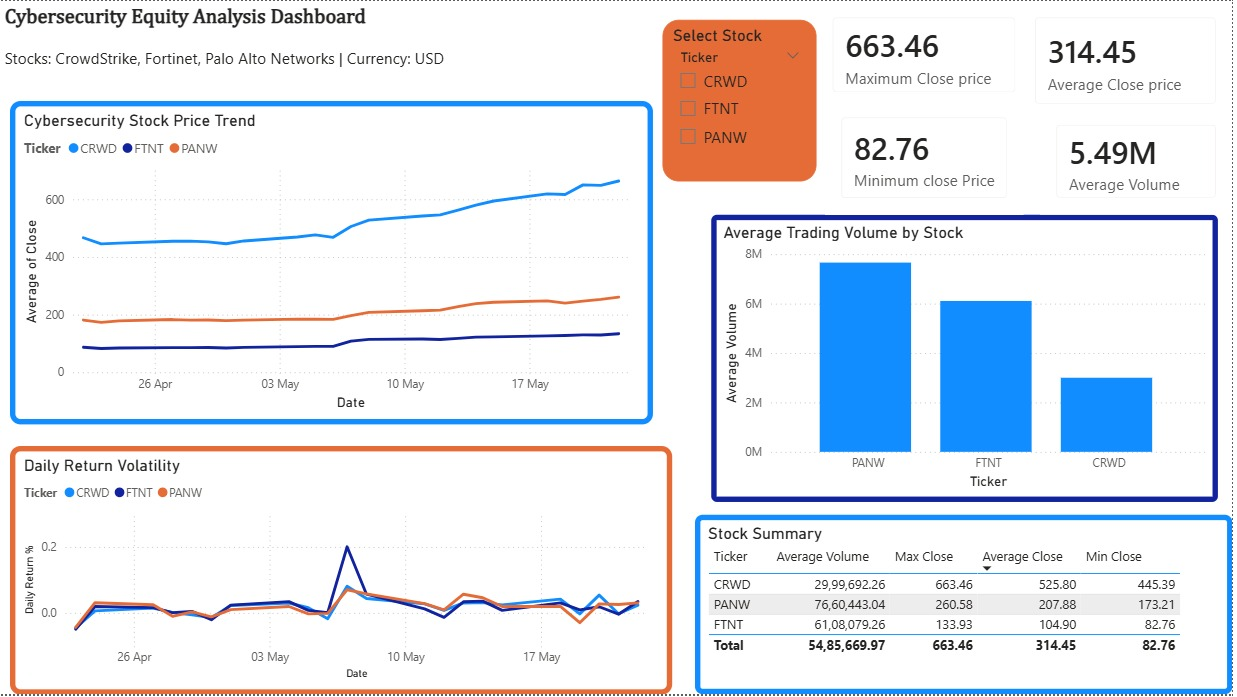

The dashboard page shown, as its layout file describes it:
{"tool":"powerbi","page":{"name":"Page 1","canvas":[1280,720],"ordinal":0},"visuals":[{"type":"lineChart","title":"Cybersecurity Stock Price Trend","fields":{"Y":["Avg(cyberstocks.Close)"],"Series":["cyberstocks.Ticker"],"Category":["cyberstocks.Date"]},"box":[10,104,668,336],"z":0},{"type":"clusteredColumnChart","title":"Average Trading Volume by Stock","fields":{"Category":["cyberstocks.Ticker"],"Y":["cyberstocks.Average Volume"]},"box":[738.3,221.7,526.7,298.3],"z":1000},{"type":"tableEx","title":"Stock Summary","fields":{"Values":["cyberstocks.Ticker","cyberstocks.Average Volume","cyberstocks.Max Close","cyberstocks.Average Close","cyberstocks.Min Close"]},"box":[721.7,533.3,558.3,186.7],"z":2000},{"type":"lineChart","title":"Daily Return Volatility","fields":{"Category":["cyberstocks.Date"],"Y":["cyberstocks.Daily Return %"],"Series":["cyberstocks.Ticker"]},"box":[10,462,688,258],"z":3000},{"type":"cardVisual","fields":{"Data":["cyberstocks.Average Close"]},"box":[1058,0,222,124],"z":4000},{"type":"cardVisual","fields":{"Data":["cyberstocks.Max Close"]},"box":[848,0,224,112],"z":5000},{"type":"cardVisual","fields":{"Data":["cyberstocks.Average Volume"]},"box":[1080,112,200,110],"z":6000},{"type":"cardVisual","fields":{"Data":["cyberstocks.Min Close"]},"box":[856.7,103.3,206.7,118.3],"z":7000},{"type":"slicer","title":"Select Stock","fields":{"Values":["cyberstocks.Ticker"]},"box":[688,20,160,168],"z":8000},{"type":"textbox","box":[0,0,498.3,61.7],"z":9000},{"type":"textbox","box":[0,43.3,498.3,41.7],"z":10000}]}

Visuals, with their boxes in screenshot pixels (x1, y1, x2, y2), scaled from the page's 1280x720 canvas onto the 1237x697 screenshot:
"Cybersecurity Stock Price Trend" lineChart: locate(10, 101, 655, 426)
"Average Trading Volume by Stock" clusteredColumnChart: locate(713, 215, 1223, 503)
"Stock Summary" tableEx: locate(697, 516, 1236, 696)
"Daily Return Volatility" lineChart: locate(10, 447, 675, 696)
cardVisual - cyberstocks.Average Close: locate(1022, 0, 1236, 120)
cardVisual - cyberstocks.Max Close: locate(820, 0, 1036, 108)
cardVisual - cyberstocks.Average Volume: locate(1044, 108, 1236, 215)
cardVisual - cyberstocks.Min Close: locate(828, 100, 1028, 215)
"Select Stock" slicer: locate(665, 19, 820, 182)
textbox: locate(0, 0, 482, 60)
textbox: locate(0, 42, 482, 82)
